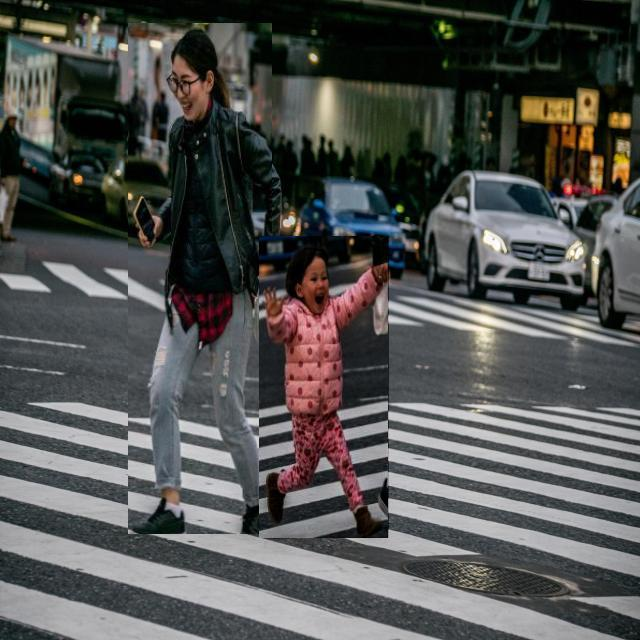without scooter: (128, 23, 272, 534), (260, 236, 390, 538)
